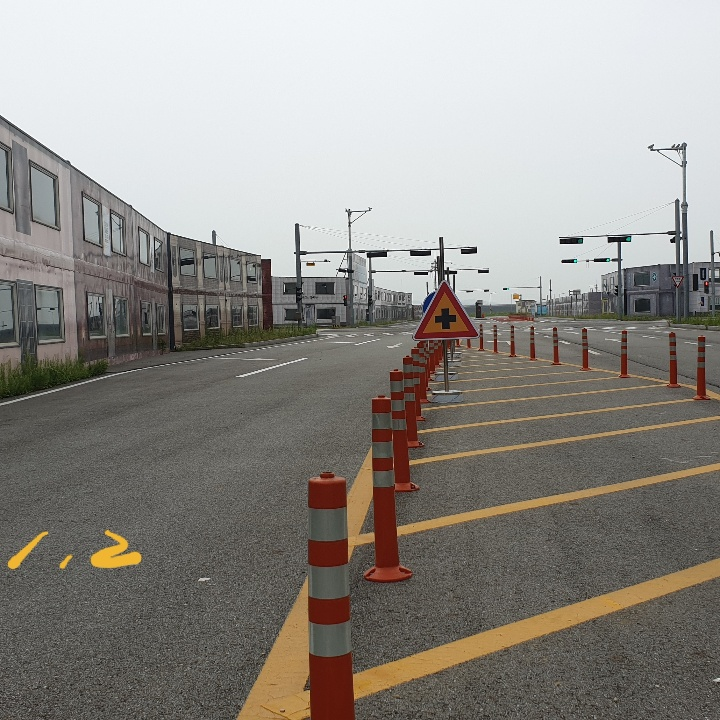inter: (430, 301, 460, 333)
